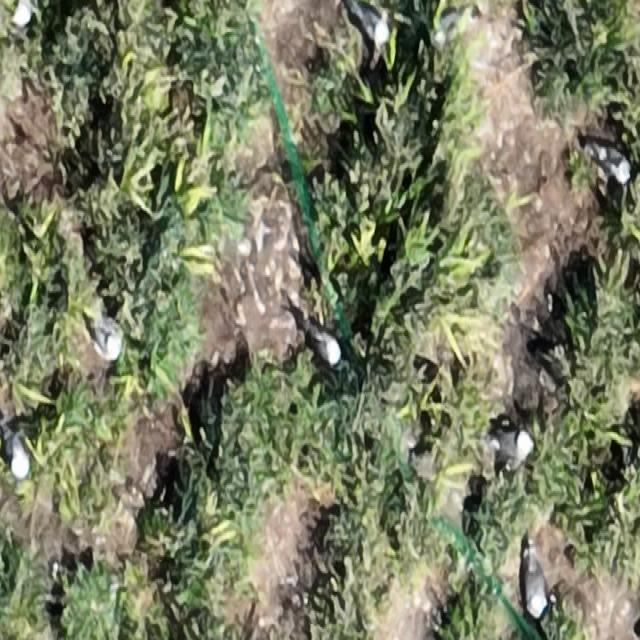umineko: (292, 311, 340, 367), (490, 427, 536, 464), (91, 310, 123, 362), (523, 560, 546, 616), (598, 149, 632, 184), (359, 8, 389, 44), (11, 439, 31, 480)
